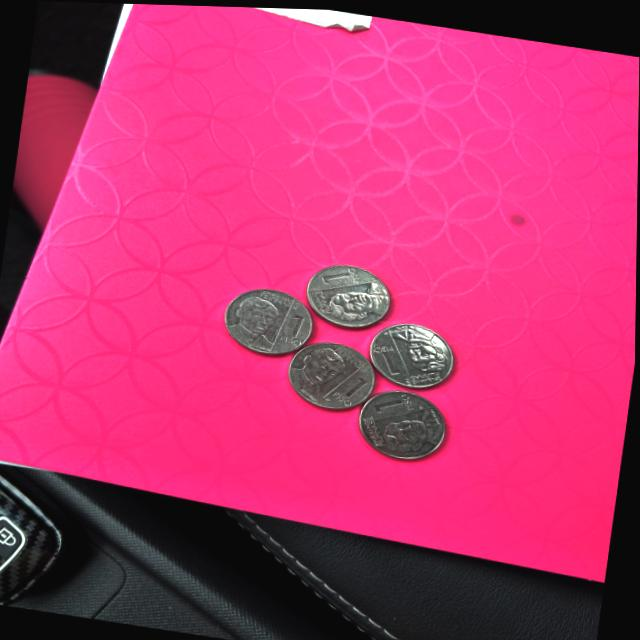1_New_Front: (371, 334, 405, 380), (309, 261, 363, 289), (372, 386, 417, 416), (280, 306, 308, 347), (329, 379, 367, 408)
